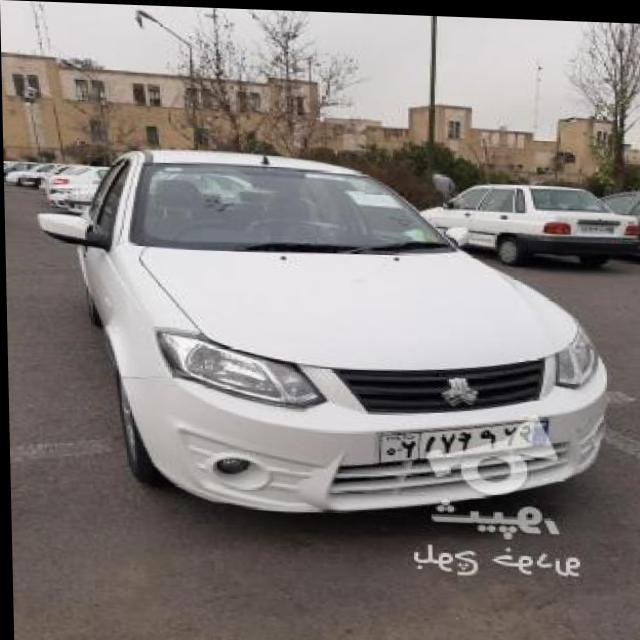licence: (378, 408, 550, 462)
